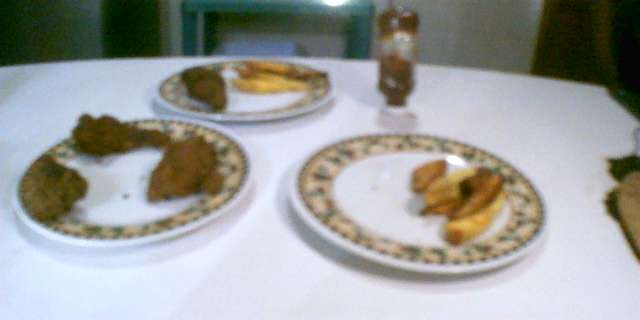chicken: (138, 129, 237, 210), (66, 105, 174, 160), (21, 150, 91, 225), (179, 63, 237, 113)
ketchup_bottle: (368, 4, 427, 122)
potatoe_fries: (410, 149, 512, 246), (230, 57, 334, 98)
